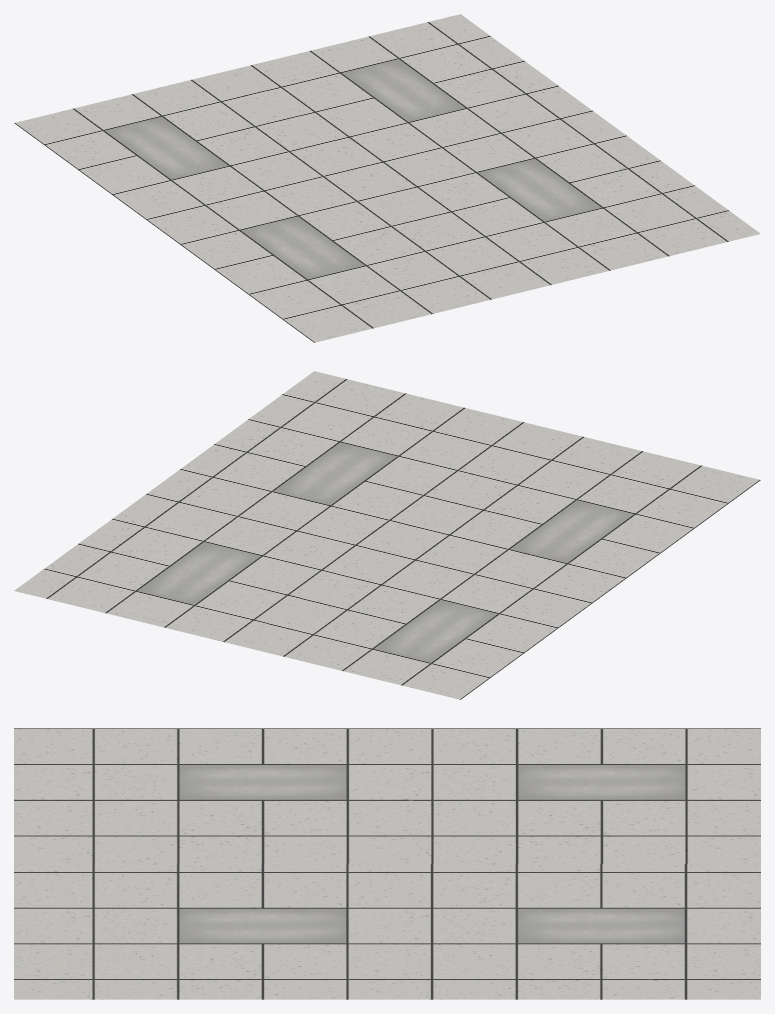
Rendered from PatientRoomCeiling.fbx.
3 renders of one model, top to bottom at view 1: azimuth 30°, elevation 25°; view 2: azimuth 150°, elevation 25°; view 3: azimuth 270°, elevation 25°, orthographic. The views are drawn at different scales.
Visible parts, largest first — view 1: Floor_1:pCube100; view 2: Floor_1:pCube100; view 3: Floor_1:pCube100.
Boxes of the visible parts, x1=… form: Floor_1:pCube100: x1=14, y1=14, x2=760, y2=342; Floor_1:pCube100: x1=14, y1=371, x2=760, y2=699; Floor_1:pCube100: x1=14, y1=728, x2=760, y2=999.
Bounding box in the file's own units: 460 × 0 × 536.
Materials: 1 (1 with a texture image).
